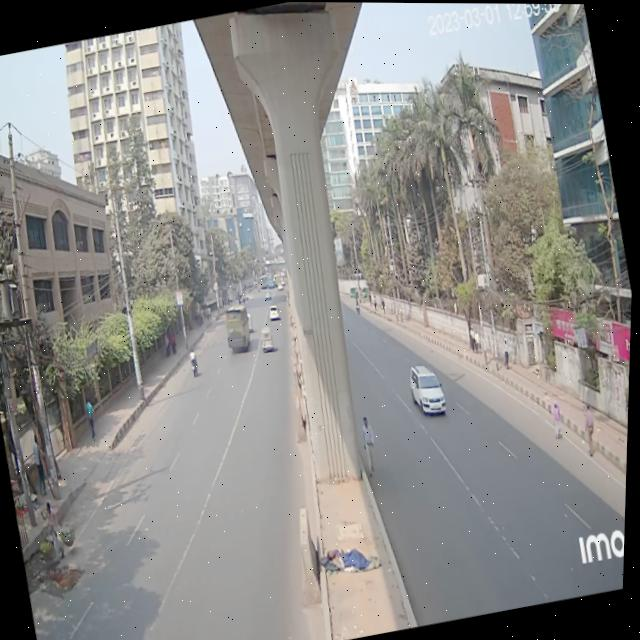cng: (260, 322, 281, 359)
